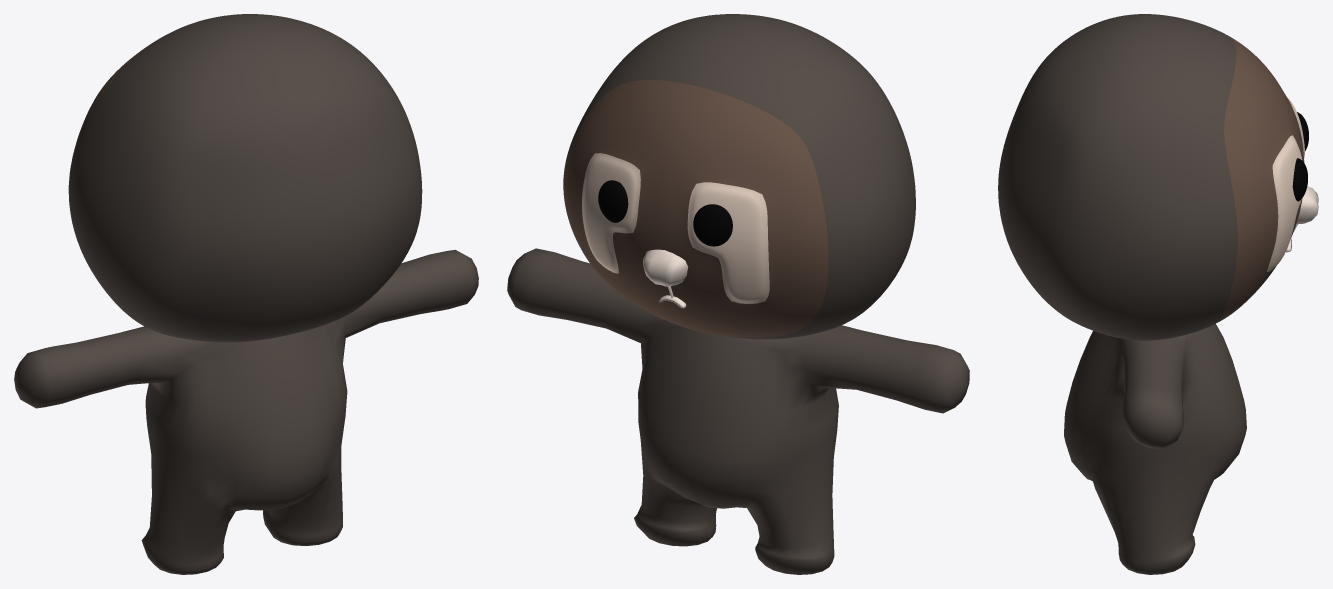
File: sloth3.fbx
The picture shows the model from 3 angles, left to right: view 1: azimuth 30°, elevation 25°; view 2: azimuth 150°, elevation 25°; view 3: azimuth 270°, elevation 25°; orthographic projection. The views are drawn at different scales.
Parts seen in each view (by area): view 1: sloth2; view 2: sloth2; view 3: sloth2.
Boxes of the visible parts, x1,y1,x2,y2 form: sloth2: (14,14,478,574); sloth2: (507,14,969,574); sloth2: (998,14,1318,574).
Bounding box in the file's own units: 39.91 × 43.49 × 25.15.
